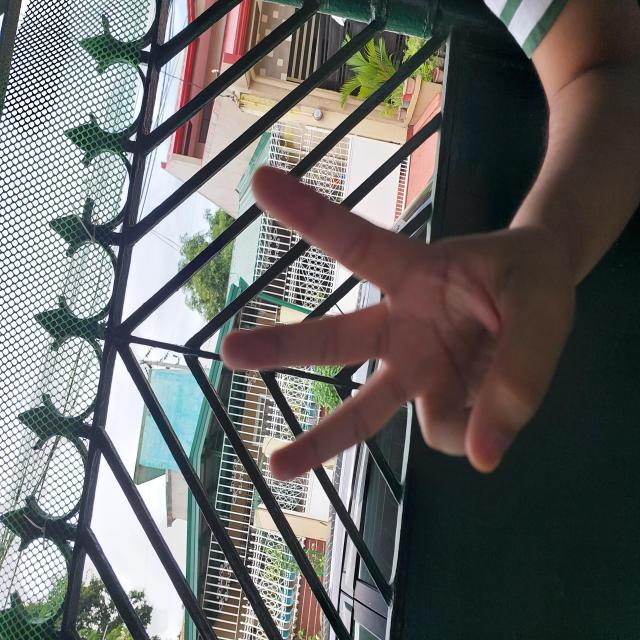W: (155, 220, 477, 580)
